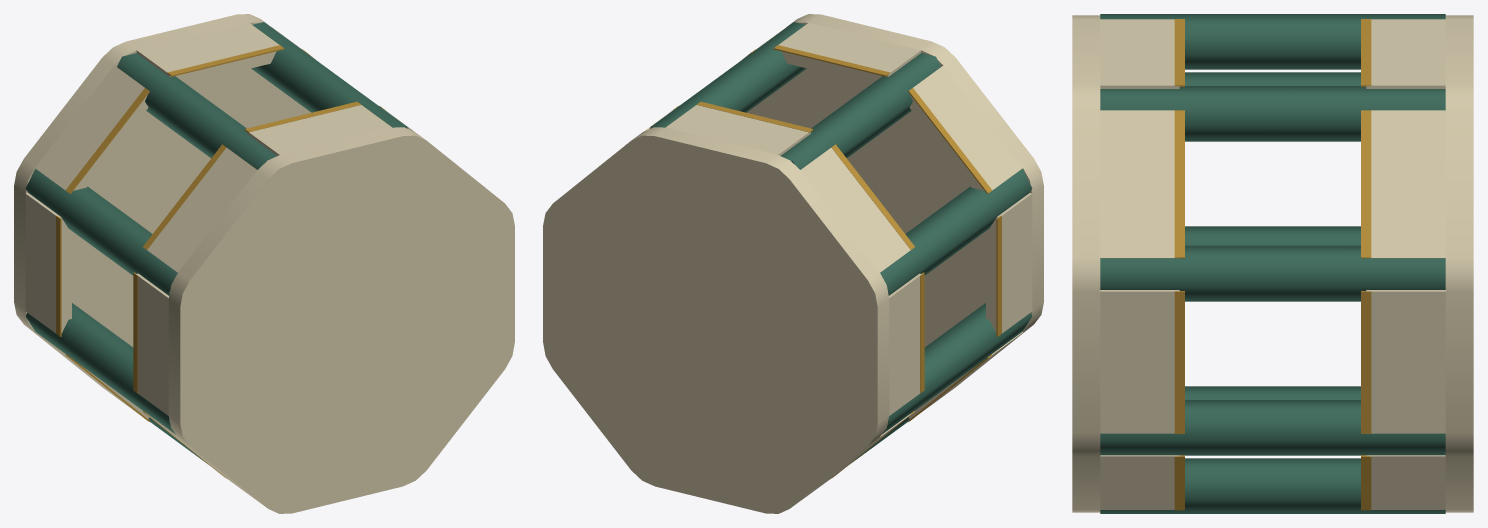
The model's file is h12_housing.obj.
3 views of the same model, side by side, from view 1: azimuth 30°, elevation 25°; view 2: azimuth 150°, elevation 25°; view 3: azimuth 270°, elevation 25° (orthographic). The views are drawn at different scales.
Visible parts, largest first — view 1: h12_housing; view 2: h12_housing; view 3: h12_housing.
Boxes of the visible parts, x1=… form: h12_housing: x1=14, y1=14, x2=514, y2=513; h12_housing: x1=543, y1=14, x2=1043, y2=513; h12_housing: x1=1072, y1=14, x2=1473, y2=513.
Size of the model in its own units: 3.18 by 3.18 by 2.73.
